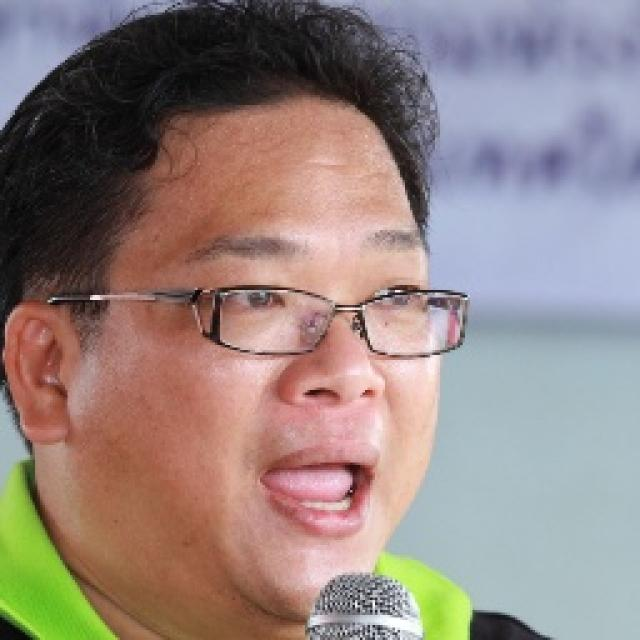earlobe: (0, 301, 69, 445)
